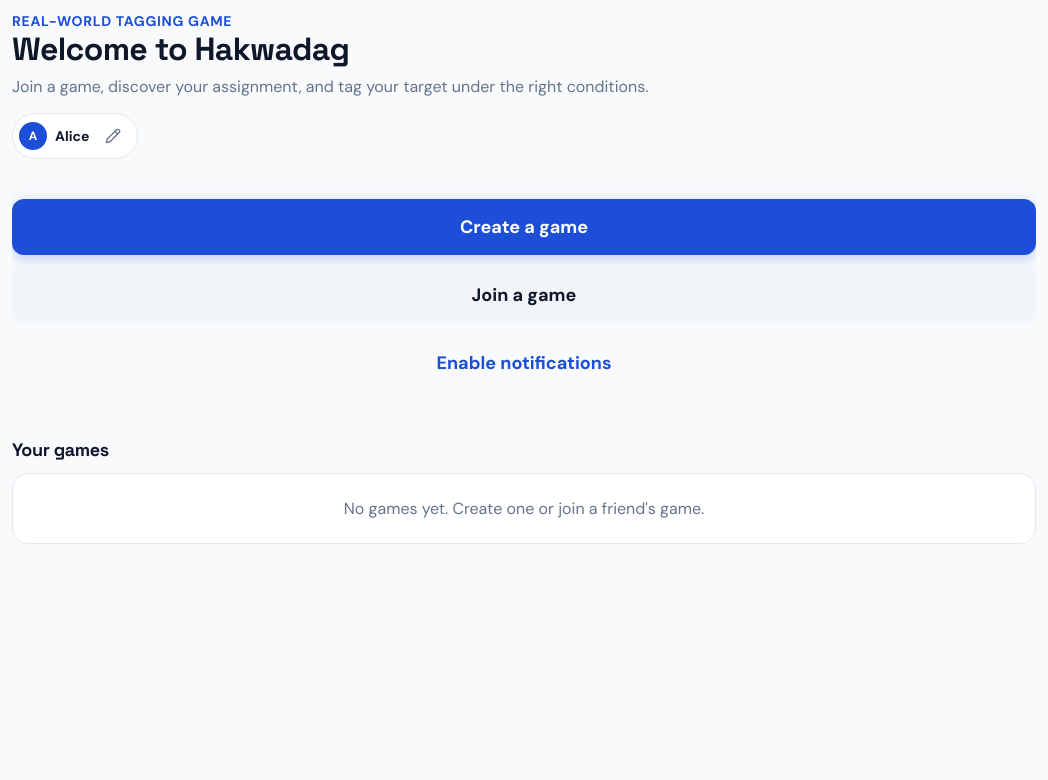
Scenario: HomeView.vue › shows an inline input when the edit button is clicked
Click the button named "Edit display name" at coordinates (113, 136), box [97, 120, 129, 152]
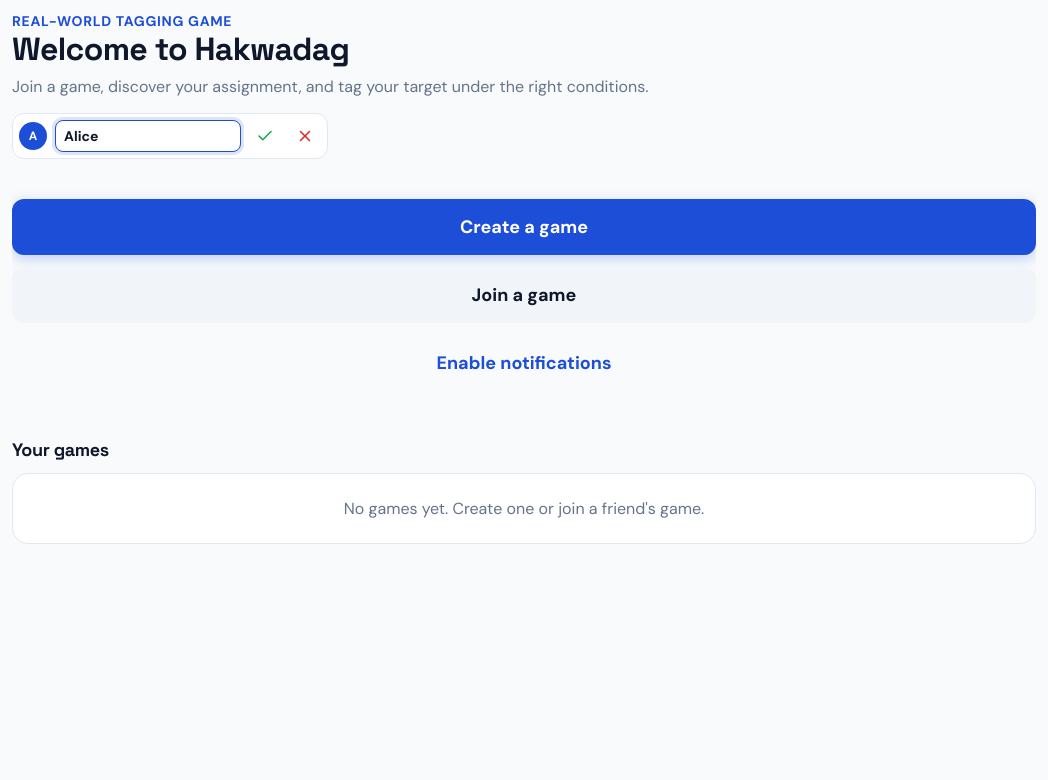
Check: the field holds "Alice", box [55, 120, 241, 152]
Check: the button named "Save" is shown, box [249, 120, 281, 152]
Check: the button named "Cancel" is shown, box [289, 120, 321, 152]
